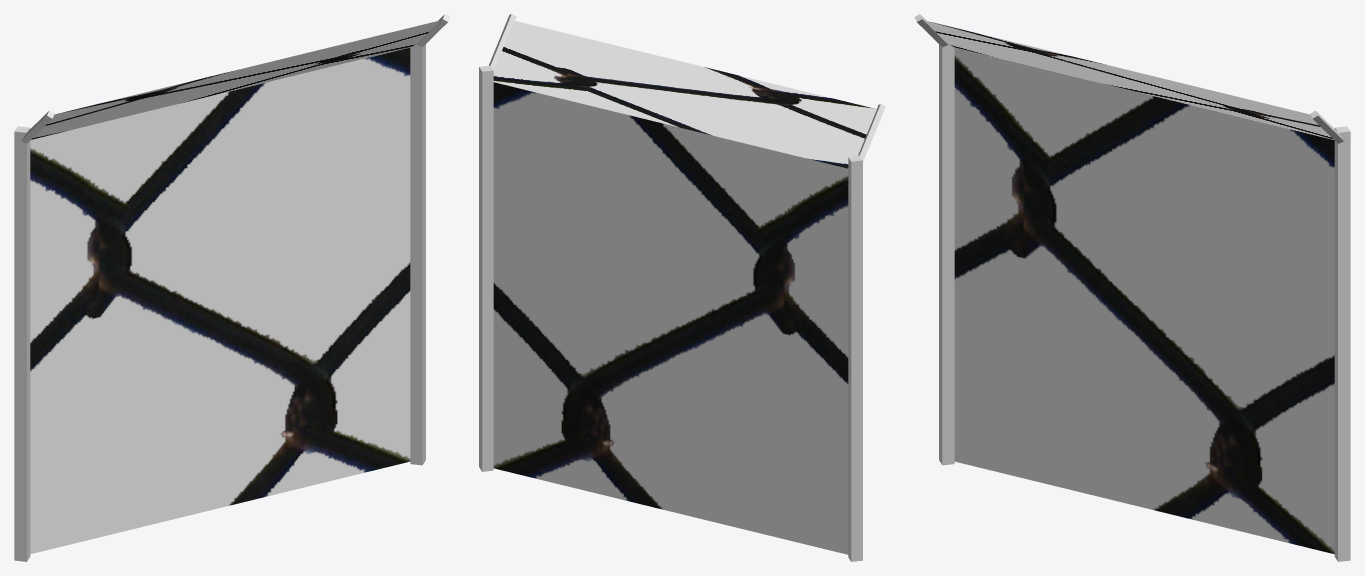
The model's file is fence.glb.
3 views of the same model, side by side, from view 1: azimuth 30°, elevation 25°; view 2: azimuth 150°, elevation 25°; view 3: azimuth 330°, elevation 25° (orthographic). The views are drawn at different scales.
Visible parts, largest first — view 1: Plane.003; view 2: Plane.003; view 3: Plane.003.
Part boxes in pixels (left/top/right/bottom): Plane.003: left=14, top=14, right=450, bottom=561; Plane.003: left=479, top=14, right=885, bottom=561; Plane.003: left=914, top=14, right=1350, bottom=561.
Bounding box in the file's own units: 2.08 × 2.26 × 0.3034.
2 materials, 1 textured.
